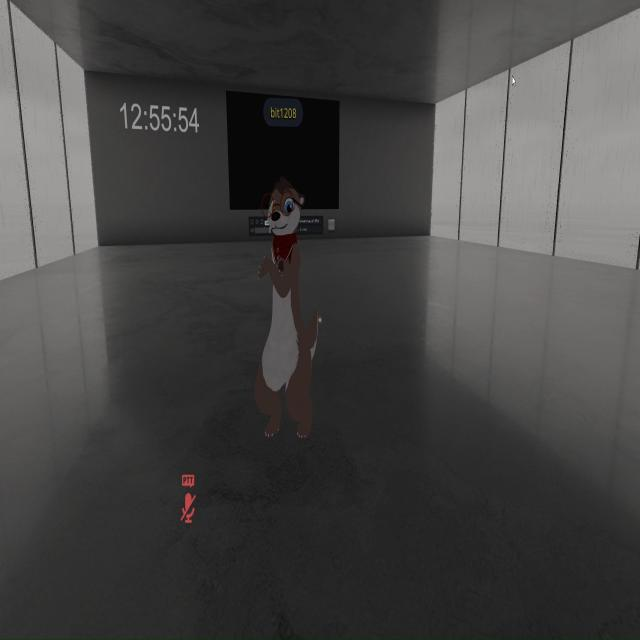human: (252, 180, 328, 452)
